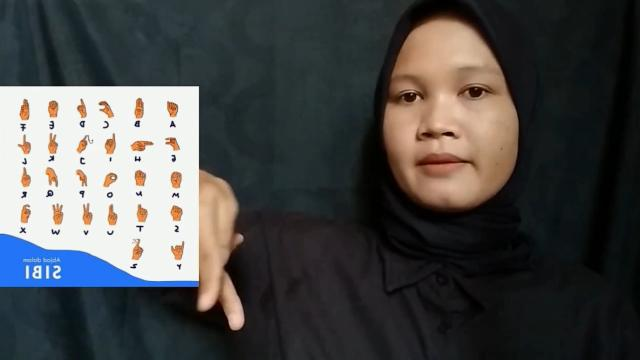P: (197, 166, 253, 334)
